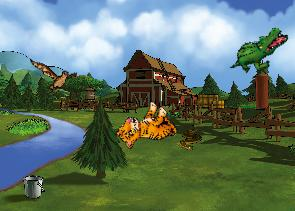crocodile: (228, 16, 290, 85)
eagle: (30, 58, 77, 94)
tiger: (112, 94, 182, 163)
